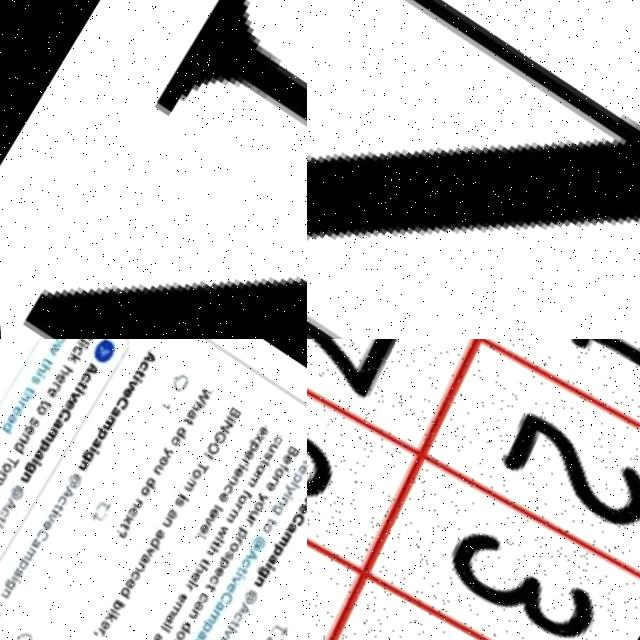1: (551, 339, 640, 426), (159, 398, 168, 407)
2: (482, 387, 640, 547)
3: (423, 504, 607, 640)
4: (365, 619, 549, 640)
7: (307, 339, 408, 412)
8: (307, 363, 345, 521)
A: (139, 344, 156, 362), (82, 357, 98, 374), (239, 543, 255, 559), (0, 492, 14, 509), (57, 482, 72, 497), (231, 598, 246, 612), (280, 516, 293, 530), (134, 548, 147, 562), (182, 404, 195, 417), (106, 402, 119, 415), (261, 548, 273, 561), (208, 595, 220, 607), (190, 625, 202, 637), (187, 596, 199, 608), (149, 525, 161, 537), (158, 610, 170, 621), (162, 505, 174, 516), (87, 434, 99, 445), (26, 534, 37, 546), (49, 415, 61, 426), (30, 446, 41, 458), (4, 410, 15, 422), (147, 629, 158, 640), (8, 564, 18, 574)
B: (282, 439, 297, 454), (106, 595, 120, 609), (225, 402, 239, 416)
C: (286, 507, 302, 524), (55, 404, 71, 420), (213, 585, 228, 602), (112, 391, 127, 407), (30, 525, 45, 541), (203, 569, 216, 583), (136, 355, 149, 369), (69, 340, 82, 354), (235, 552, 248, 565), (218, 478, 231, 491), (52, 491, 65, 504), (77, 368, 90, 381), (269, 428, 281, 442), (192, 588, 204, 601), (124, 566, 136, 579), (227, 608, 239, 619), (0, 503, 6, 516)
D: (171, 421, 187, 437), (112, 582, 129, 597), (140, 472, 157, 487), (174, 616, 189, 631), (145, 534, 158, 547), (0, 417, 11, 431), (11, 439, 23, 450), (141, 636, 155, 640)
E: (228, 462, 241, 476), (60, 394, 73, 408), (43, 383, 56, 397), (292, 497, 305, 510), (184, 566, 197, 579), (254, 419, 267, 432), (193, 519, 206, 532), (93, 615, 106, 628), (122, 502, 135, 515), (52, 369, 65, 382), (208, 562, 220, 575), (118, 383, 130, 396), (219, 577, 231, 589), (119, 574, 131, 586), (8, 402, 20, 414), (293, 458, 304, 470), (261, 476, 273, 487), (171, 589, 183, 600), (240, 445, 251, 457), (214, 487, 225, 499), (278, 449, 289, 460), (37, 517, 48, 528), (21, 422, 32, 433), (210, 631, 222, 640), (205, 504, 214, 514)
F: (237, 484, 249, 495), (275, 457, 287, 467)
G: (18, 457, 35, 472), (209, 425, 224, 442), (251, 560, 266, 575), (77, 444, 92, 459), (266, 497, 281, 511), (0, 574, 11, 587), (180, 635, 195, 640)
H: (201, 540, 215, 554), (16, 388, 30, 401), (188, 396, 201, 409), (190, 559, 204, 571), (34, 360, 47, 372), (58, 363, 69, 374)
I: (259, 557, 272, 567), (128, 370, 141, 380), (27, 454, 40, 464), (221, 619, 233, 629), (156, 617, 168, 627), (234, 458, 246, 468), (104, 604, 115, 614), (72, 383, 83, 393), (47, 504, 58, 514), (85, 442, 97, 451), (5, 572, 17, 581), (278, 487, 289, 496), (229, 566, 240, 575), (209, 531, 220, 540), (182, 576, 193, 585), (175, 489, 186, 498), (32, 367, 43, 376), (222, 411, 233, 420), (187, 632, 199, 640), (73, 339, 85, 346), (303, 486, 307, 495)
K: (65, 349, 78, 362), (98, 609, 112, 621)
L: (284, 475, 296, 485), (154, 621, 165, 630), (211, 501, 220, 507), (192, 528, 201, 534), (78, 339, 88, 342)
M: (242, 467, 258, 485), (272, 525, 288, 542), (200, 603, 216, 620), (99, 411, 115, 428), (40, 423, 56, 440), (221, 503, 236, 520), (164, 597, 178, 613), (180, 472, 194, 488), (18, 543, 32, 559), (0, 468, 4, 485)
N: (307, 0, 640, 339), (0, 0, 307, 339), (217, 414, 231, 429), (248, 571, 261, 585), (15, 468, 28, 481), (75, 456, 86, 469), (224, 470, 236, 481), (130, 558, 141, 570), (128, 494, 139, 506), (157, 513, 168, 524), (184, 604, 193, 615), (274, 491, 283, 501), (17, 431, 26, 441), (0, 586, 4, 597)
O: (201, 435, 220, 454), (248, 495, 261, 509), (166, 430, 179, 444), (269, 461, 281, 475), (251, 458, 263, 471), (187, 463, 199, 476), (135, 480, 147, 493), (33, 401, 45, 414), (223, 538, 235, 549), (232, 490, 243, 502), (154, 452, 166, 463), (0, 458, 9, 472), (170, 627, 180, 637), (259, 519, 268, 529), (52, 339, 65, 342)
P: (264, 538, 279, 553), (242, 435, 257, 449), (32, 436, 47, 450), (91, 424, 104, 437), (229, 522, 243, 534), (286, 467, 299, 479), (194, 616, 207, 628), (212, 553, 225, 565), (12, 555, 23, 567)
R: (297, 449, 307, 464), (236, 452, 246, 462), (228, 532, 239, 541), (178, 579, 189, 588), (229, 498, 239, 507), (90, 625, 100, 634), (49, 378, 59, 387), (13, 398, 23, 407), (266, 471, 276, 479), (241, 514, 249, 522)
S: (218, 546, 230, 557), (258, 447, 270, 458), (25, 414, 37, 425), (27, 372, 39, 383), (170, 493, 181, 504)
T: (191, 456, 206, 470), (2, 451, 15, 466), (232, 561, 244, 571), (74, 378, 85, 388), (40, 353, 51, 363), (224, 615, 234, 625), (116, 518, 126, 528), (262, 513, 273, 522), (200, 579, 211, 588), (206, 536, 217, 545), (196, 552, 207, 561), (180, 413, 191, 422), (49, 500, 60, 509), (21, 383, 32, 392), (257, 454, 267, 463), (132, 365, 142, 374), (39, 396, 49, 405)
U: (243, 505, 255, 516), (265, 438, 274, 449), (150, 461, 159, 471)
V: (65, 386, 79, 400), (123, 374, 136, 387), (224, 568, 236, 582), (138, 542, 150, 553), (199, 512, 210, 523), (298, 489, 307, 502), (42, 509, 52, 520), (216, 624, 226, 634)
W: (191, 380, 212, 403), (44, 339, 59, 354), (212, 519, 225, 535), (160, 632, 176, 640)
X: (250, 428, 261, 440), (118, 510, 129, 522)
Y: (249, 485, 266, 500), (158, 443, 171, 456), (280, 479, 291, 490)
